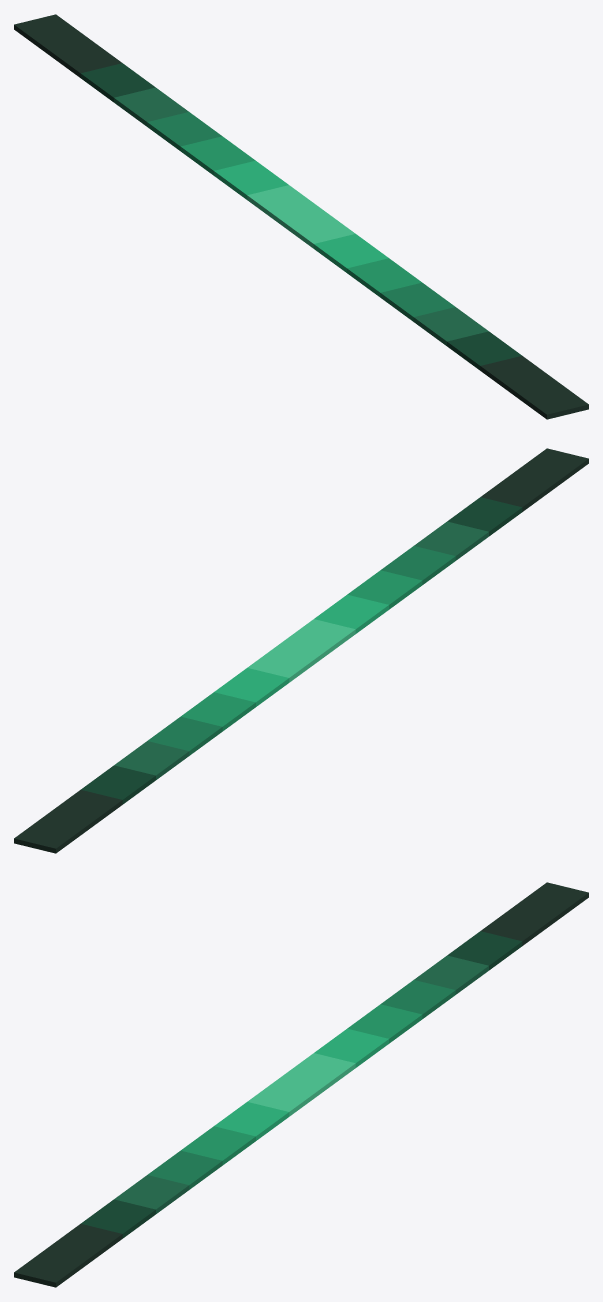
File: Floor.fbx
3 views of the same model, one above another, from view 1: azimuth 30°, elevation 25°; view 2: azimuth 150°, elevation 25°; view 3: azimuth 330°, elevation 25° (orthographic).
Visible parts, largest first — view 1: pCube4; view 2: pCube4; view 3: pCube4.
Part boxes in pixels (<box>): pCube4: <box>14,14,588,419</box>; pCube4: <box>14,448,588,853</box>; pCube4: <box>14,882,588,1287</box>.
Bounding box in the file's own units: 5393 × 604 × 118576.
Materials: 1 (1 with a texture image).
